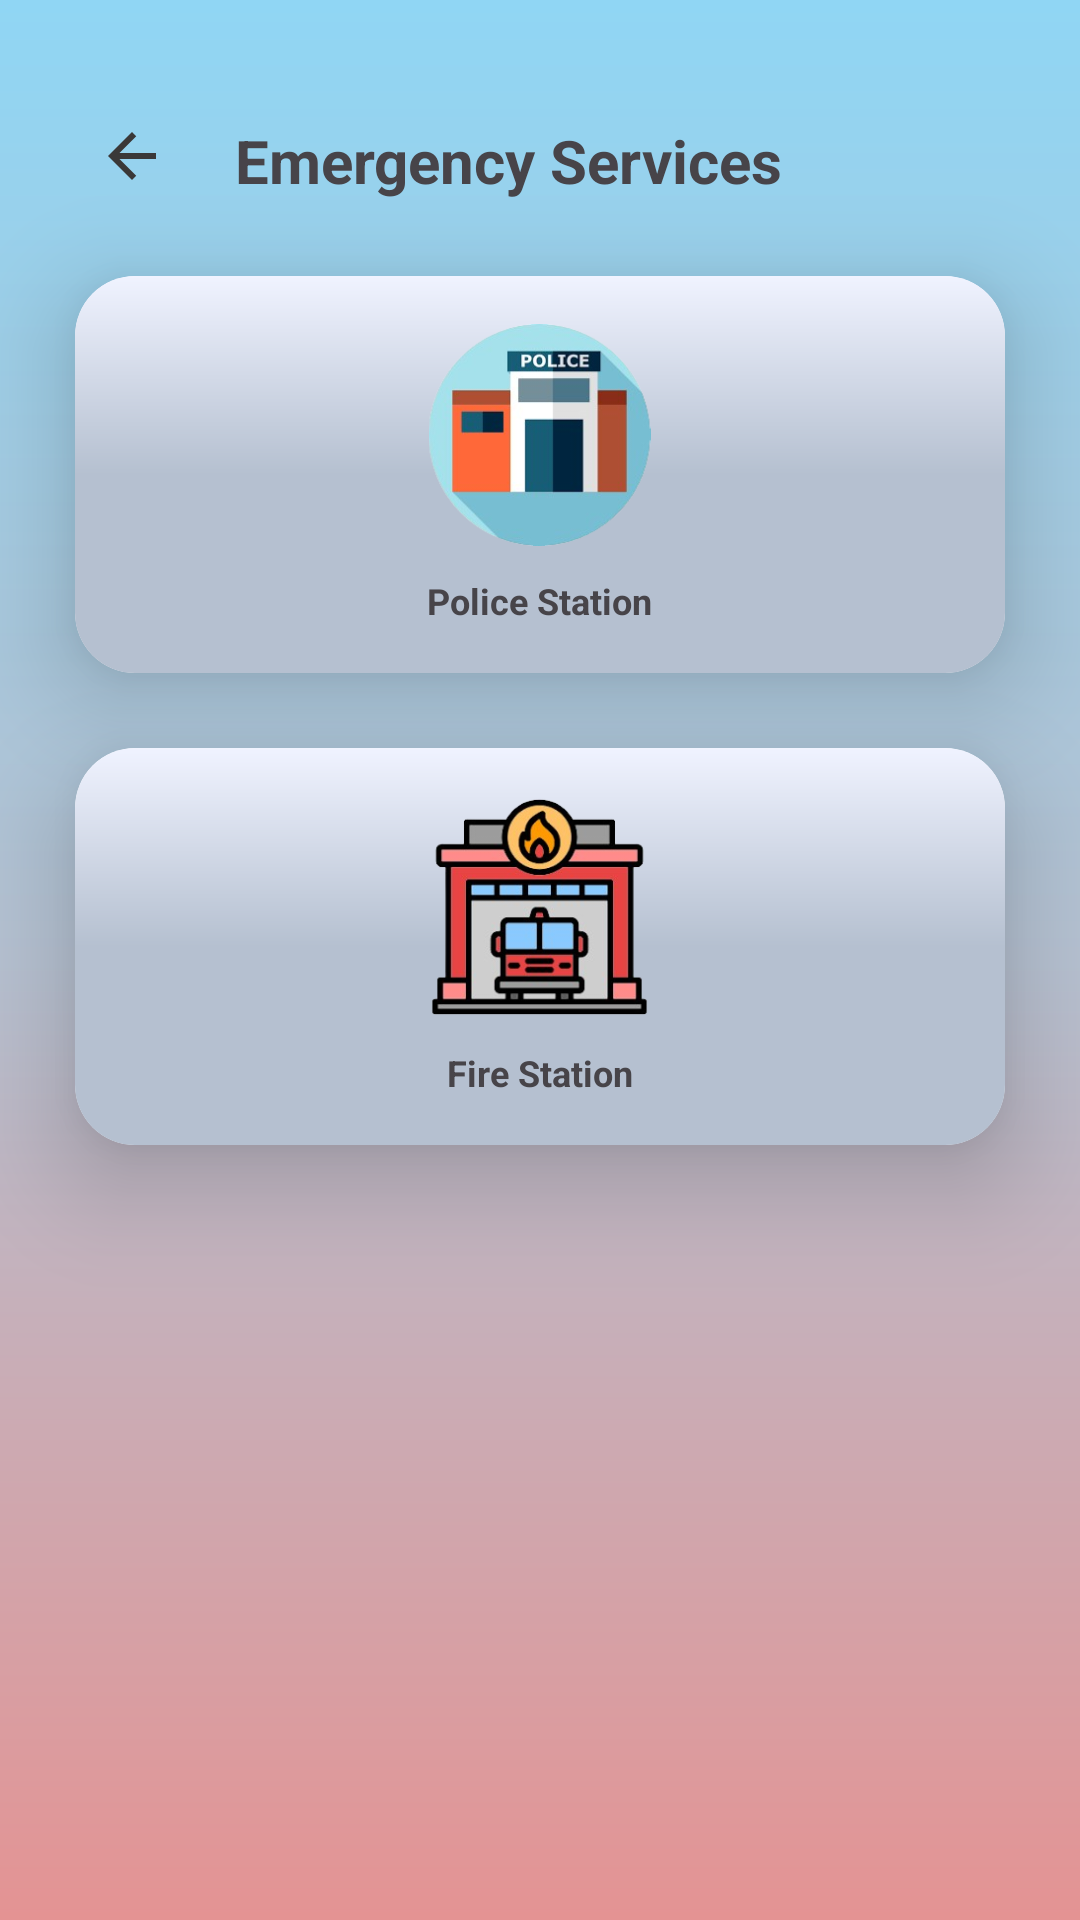

Icons on this 1080px×1920px Android screen, each with its box as (x1, y1, x2, y2):
arrow back: (108, 132, 156, 180)
